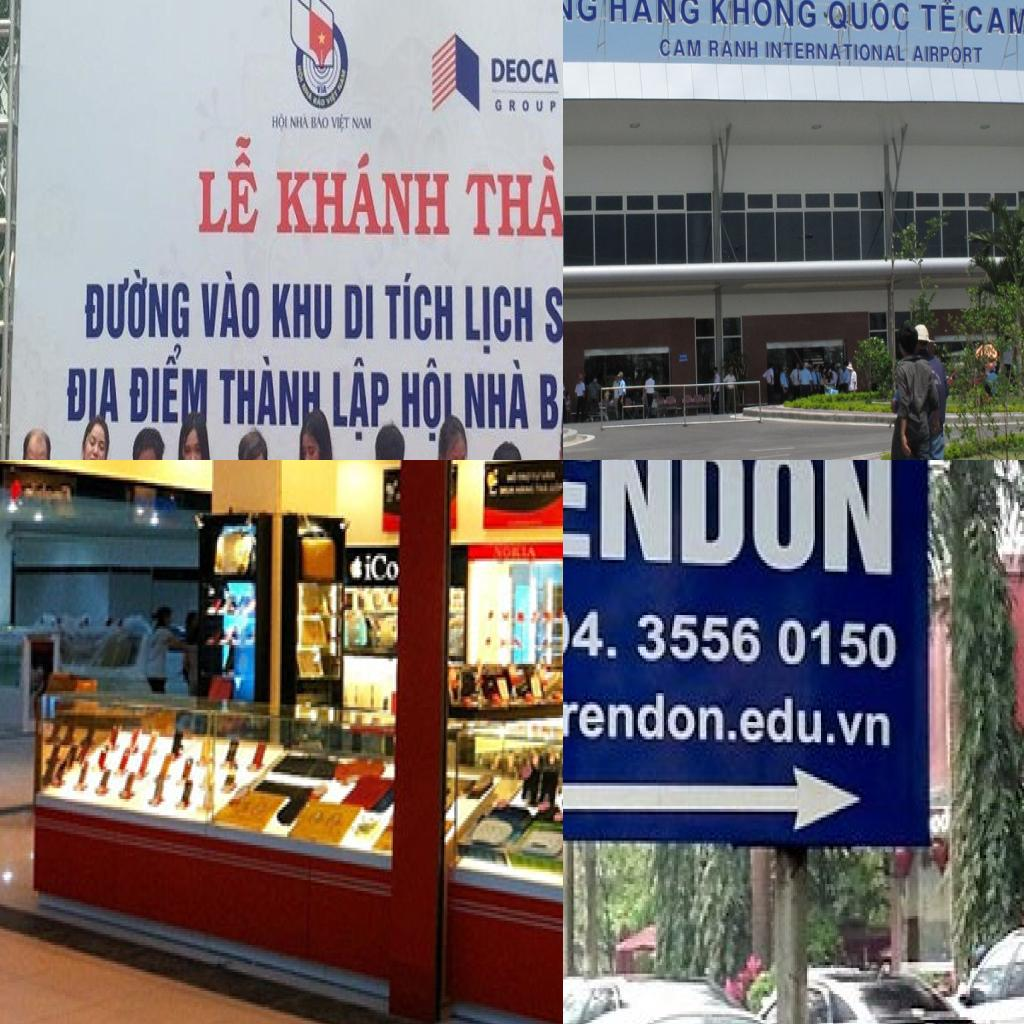text: (563, 460, 895, 583), (563, 600, 901, 675), (563, 679, 895, 754), (274, 146, 451, 238), (464, 152, 563, 244), (216, 355, 322, 432), (82, 268, 190, 342), (128, 342, 210, 428), (196, 134, 260, 238), (329, 357, 392, 444), (383, 272, 455, 342), (464, 285, 534, 357), (463, 358, 531, 432), (399, 357, 453, 446), (764, 33, 908, 65), (199, 268, 261, 342), (271, 282, 333, 342), (66, 366, 120, 424), (711, 0, 818, 29), (826, 0, 911, 33), (605, 0, 701, 29), (489, 52, 561, 87), (965, 0, 1024, 40), (344, 282, 375, 342), (539, 360, 563, 435), (542, 267, 563, 348), (915, 0, 959, 35), (360, 548, 400, 586), (710, 33, 761, 60), (655, 35, 705, 60), (495, 545, 538, 561), (331, 113, 351, 136), (351, 114, 373, 133), (311, 113, 330, 134), (270, 113, 288, 134), (290, 113, 310, 131), (325, 87, 340, 110), (337, 66, 348, 96), (301, 82, 313, 106), (312, 94, 326, 110), (297, 62, 305, 86), (316, 84, 328, 94)
